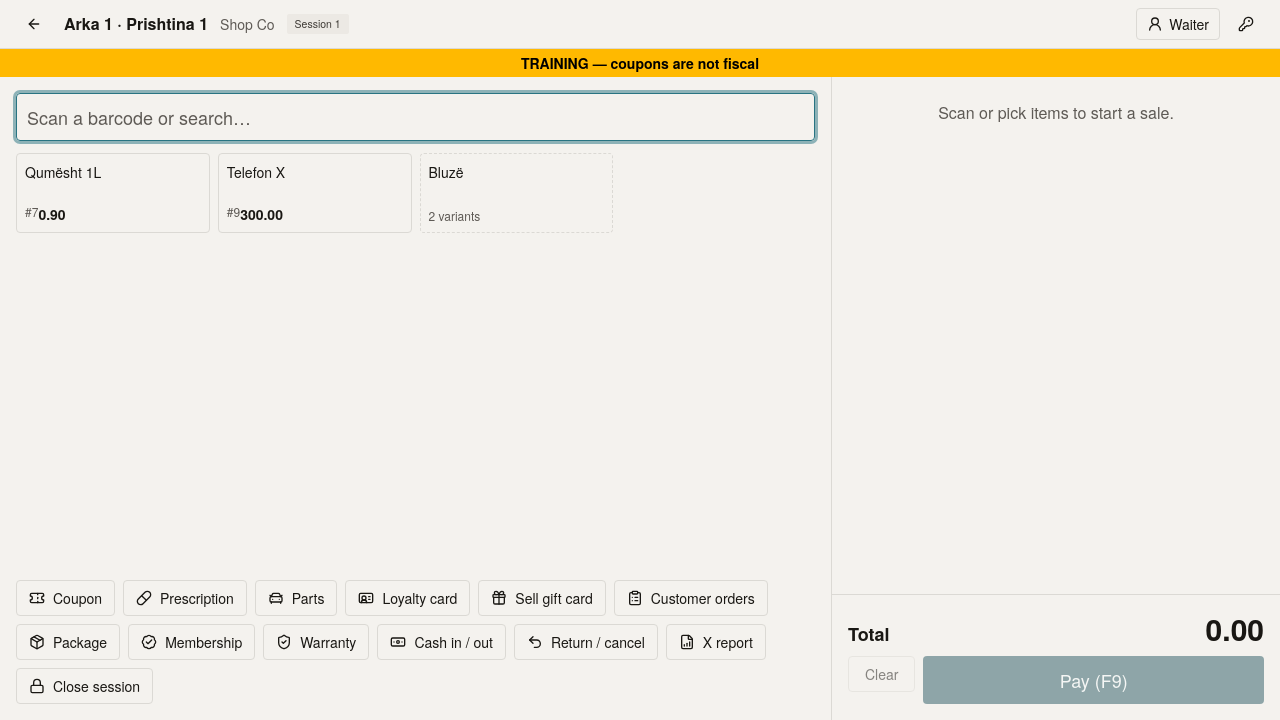
Till — variants, serials and customer orders (P2) › shows one tile per template and adds the variant picked from it
Click the button with test id "variant-tile": (516, 193) x1=420 y1=153 x2=613 y2=233
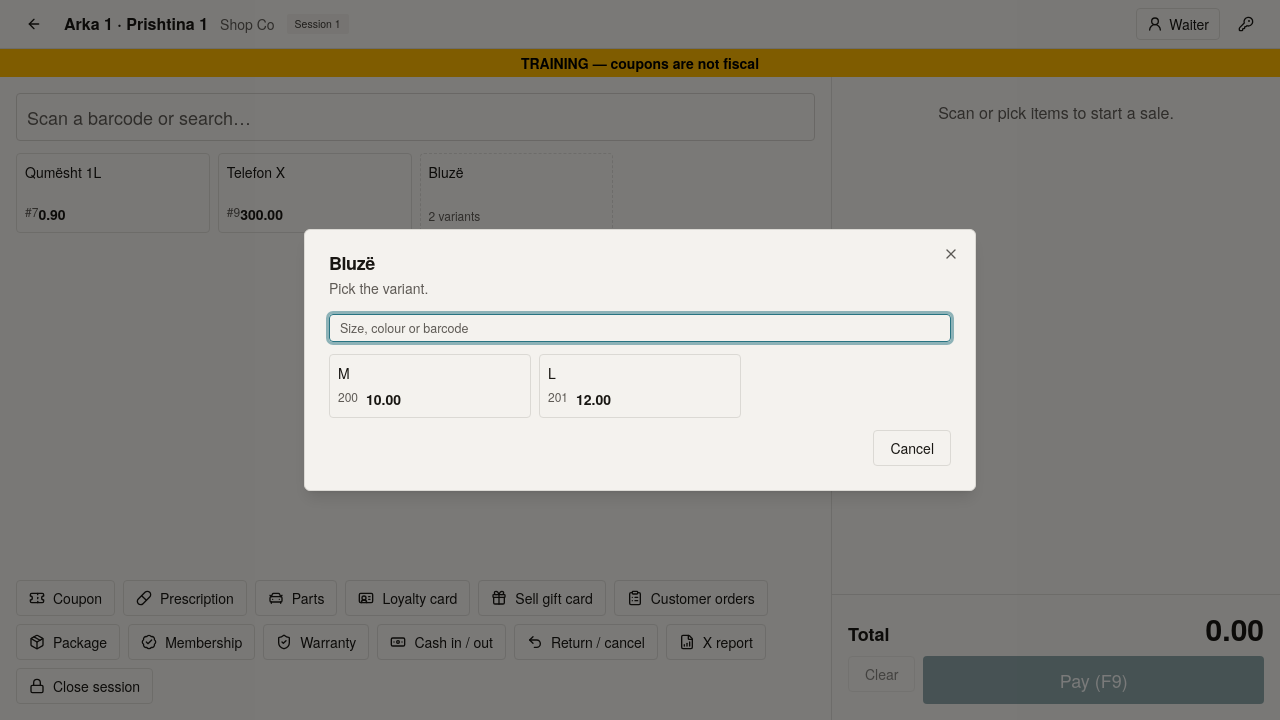
Check: the text "12.00" is shown, box x1=576 y1=389 x2=611 y2=409
Click the text "L": (552, 373) x1=548 y1=363 x2=556 y2=383
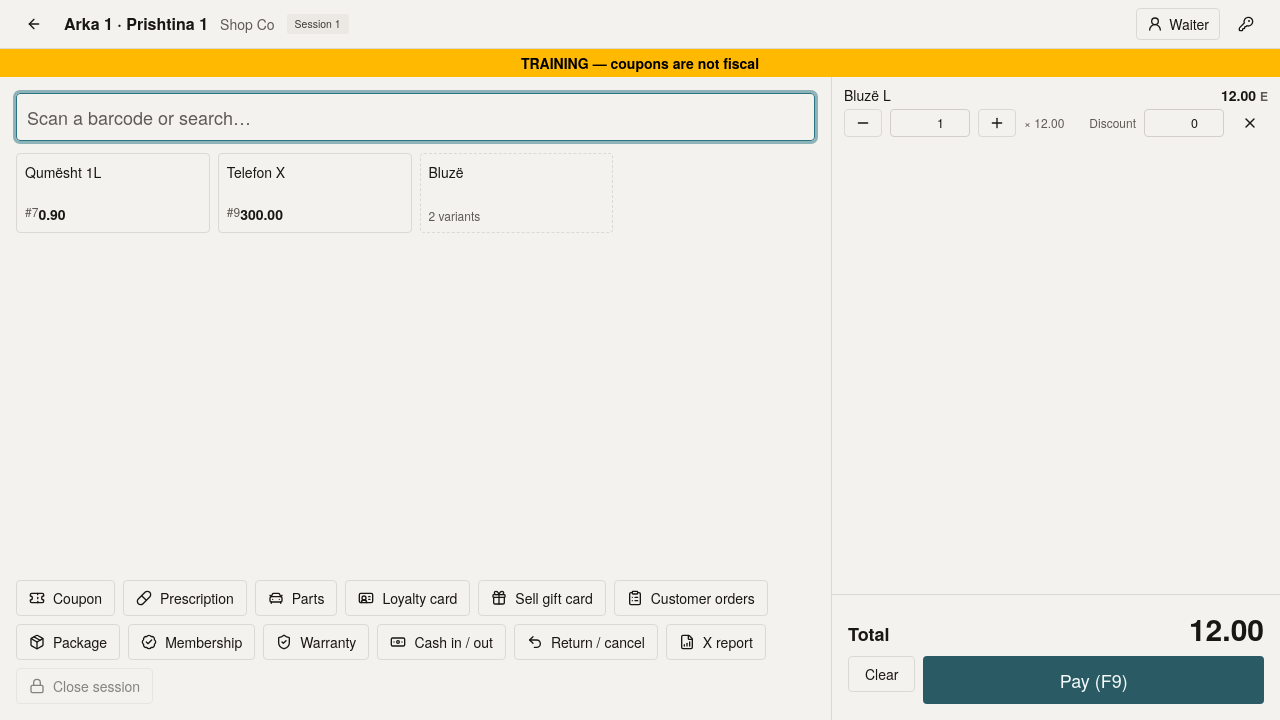
Check: the dialog is gone
